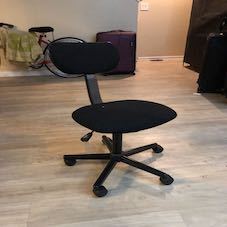chair: (39, 12, 187, 206)
